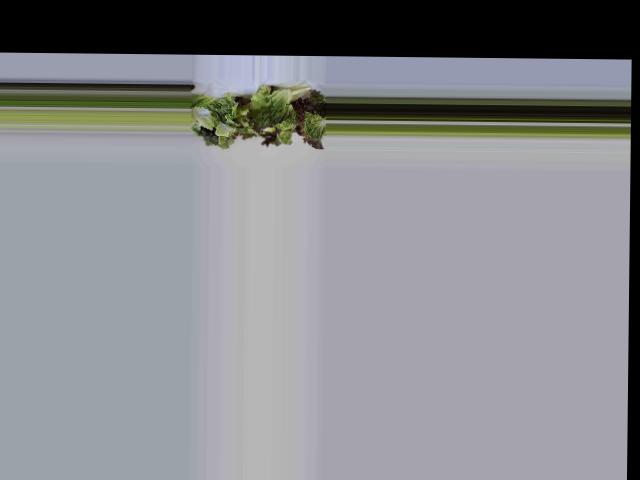lettuce: (198, 92, 322, 144)
